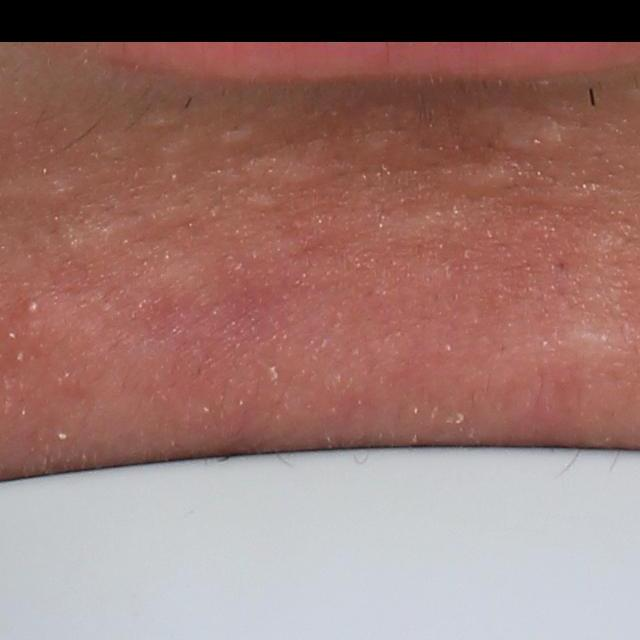hypertrophic_scar: (234, 138, 343, 191), (459, 106, 585, 151), (438, 160, 518, 196), (558, 325, 621, 359), (147, 133, 201, 161), (217, 120, 262, 146), (135, 112, 187, 133)
